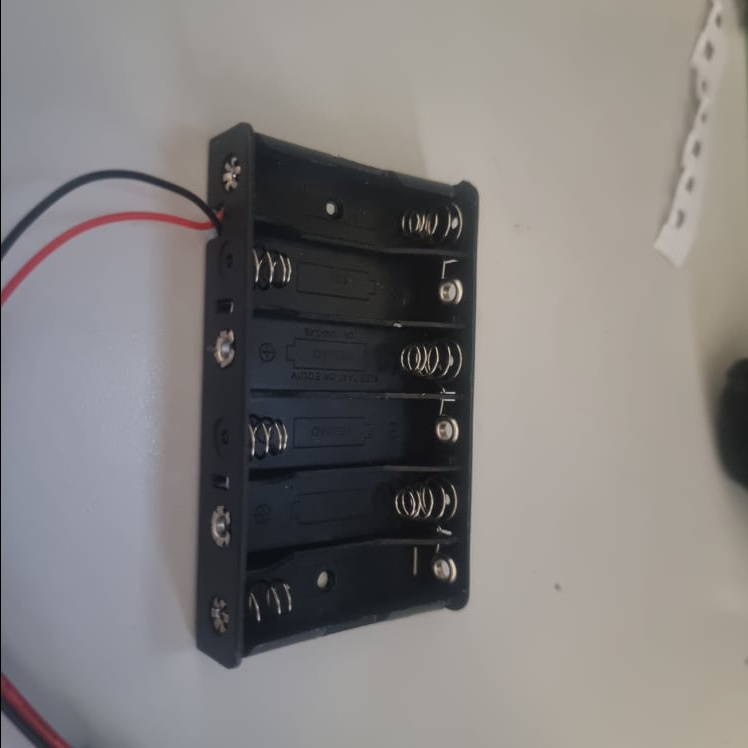BATTERY BOX: (200, 119, 479, 668)
